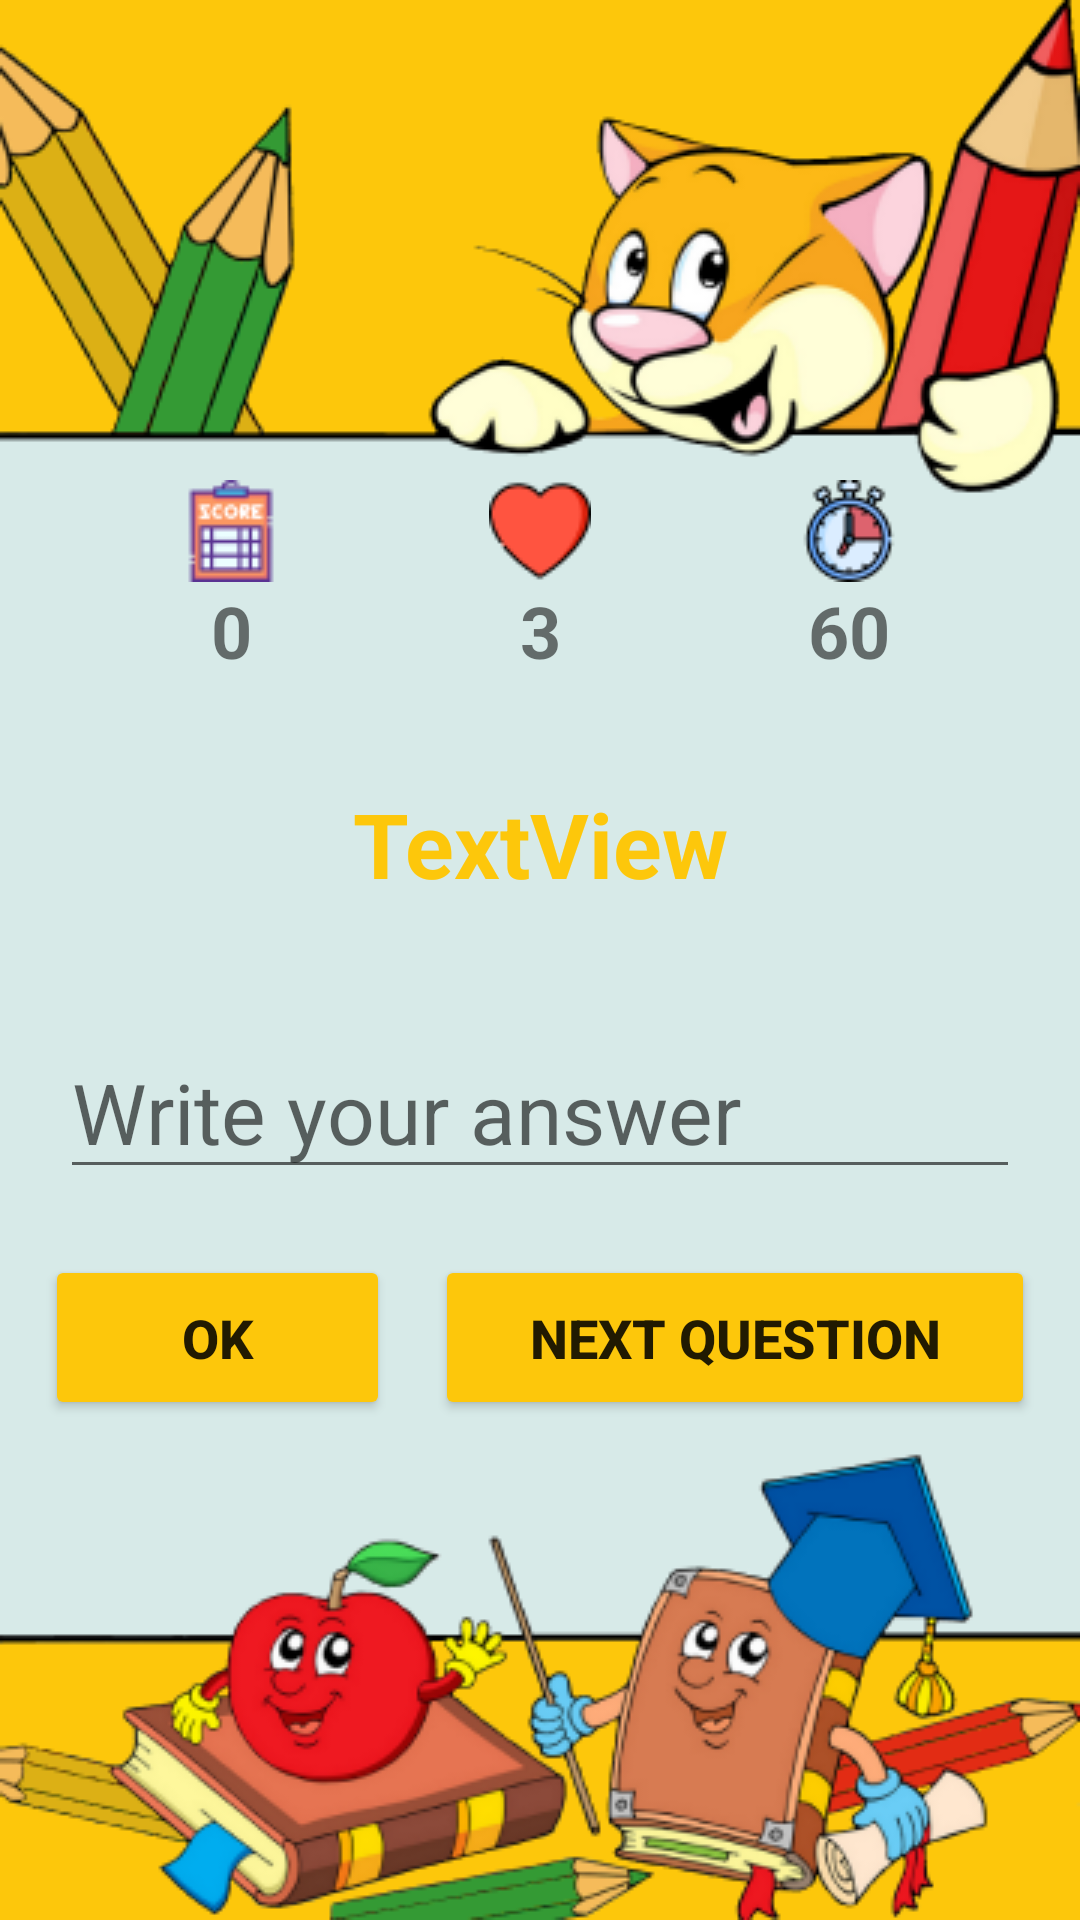

Screen size 1080*1920. Icon name, then its center in pixels as [x,y]:
Life: [540,531]
Time: [848,531]
